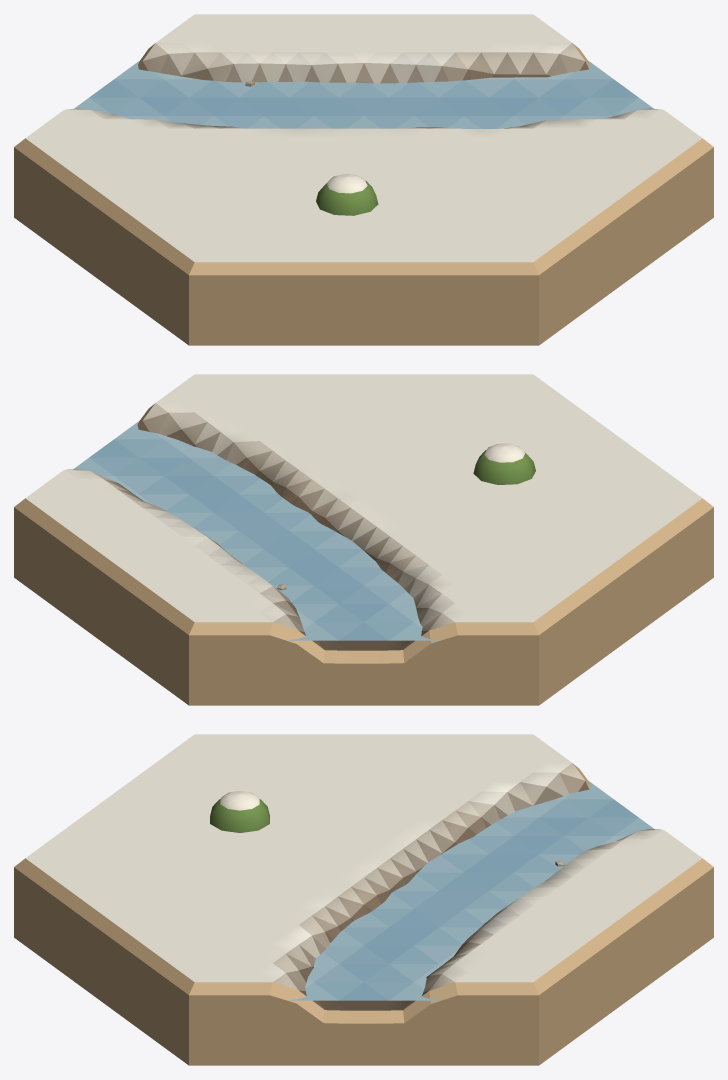
Rendered from river_bend_snow_1.fbx.
The picture shows the model from 3 angles, top to bottom: view 1: azimuth 30°, elevation 25°; view 2: azimuth 150°, elevation 25°; view 3: azimuth 270°, elevation 25°; orthographic projection.
Parts seen in each view (by area): view 1: river_bend_snow_1; view 2: river_bend_snow_1; view 3: river_bend_snow_1.
Part boxes in pixels (bbox=[...]): river_bend_snow_1: bbox=[14, 14, 713, 345]; river_bend_snow_1: bbox=[14, 374, 713, 705]; river_bend_snow_1: bbox=[14, 734, 713, 1065].
Size of the model in its own units: 1.73 by 0.331 by 2.
